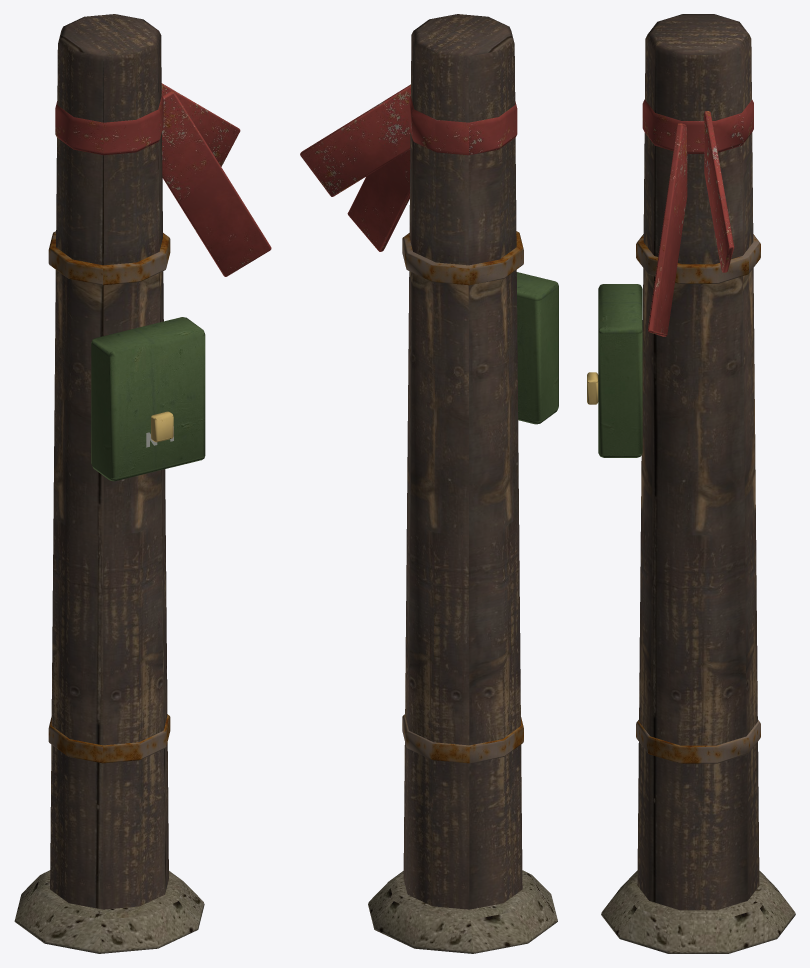
Rendered from deploy_claim.glb.
3 views of the same model, side by side, from view 1: azimuth 30°, elevation 25°; view 2: azimuth 150°, elevation 25°; view 3: azimuth 270°, elevation 25° (orthographic).
Parts seen in each view (by area): view 1: cyl, box, cyl.001, box.002, cyl.004, cyl.003, cyl.002, box.003, box.001; view 2: cyl, cyl.001, box.003, box, box.002, cyl.004, cyl.003, cyl.002; view 3: cyl, cyl.001, box, box.002, cyl.004, cyl.002, box.003, cyl.003.
Boxes of the visible parts, left/top/right/bottom form: cyl: left=50, top=14, right=168, bottom=909; box: left=91, top=317, right=205, bottom=481; cyl.001: left=14, top=870, right=204, bottom=953; box.002: left=162, top=90, right=271, bottom=276; cyl.004: left=55, top=95, right=163, bottom=155; cyl.003: left=48, top=231, right=170, bottom=285; cyl.002: left=48, top=714, right=170, bottom=763; box.003: left=161, top=83, right=240, bottom=166; box.001: left=151, top=411, right=173, bottom=442; cyl: left=403, top=14, right=522, bottom=909; cyl.001: left=368, top=870, right=557, bottom=953; box.003: left=300, top=84, right=410, bottom=196; box: left=517, top=272, right=558, bottom=424; box.002: left=347, top=150, right=410, bottom=251; cyl.004: left=408, top=95, right=517, bottom=155; cyl.003: left=402, top=231, right=523, bottom=285; cyl.002: left=402, top=714, right=523, bottom=763; cyl: left=637, top=14, right=759, bottom=910; cyl.001: left=601, top=870, right=795, bottom=953; box: left=598, top=284, right=642, bottom=457; box.002: left=648, top=123, right=687, bottom=336; cyl.004: left=642, top=99, right=753, bottom=153; cyl.002: left=636, top=720, right=760, bottom=763; box.003: left=704, top=111, right=734, bottom=272; cyl.003: left=636, top=234, right=760, bottom=283.
Bounding box in the file's own units: 0.4706 × 1.75 × 0.375.
Materials: 7 (7 with a texture image).
